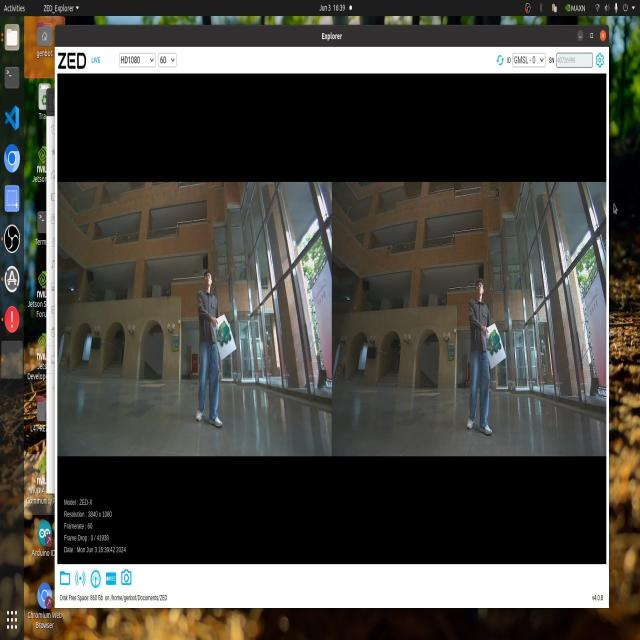green: (481, 314, 506, 365), (215, 321, 232, 353)
